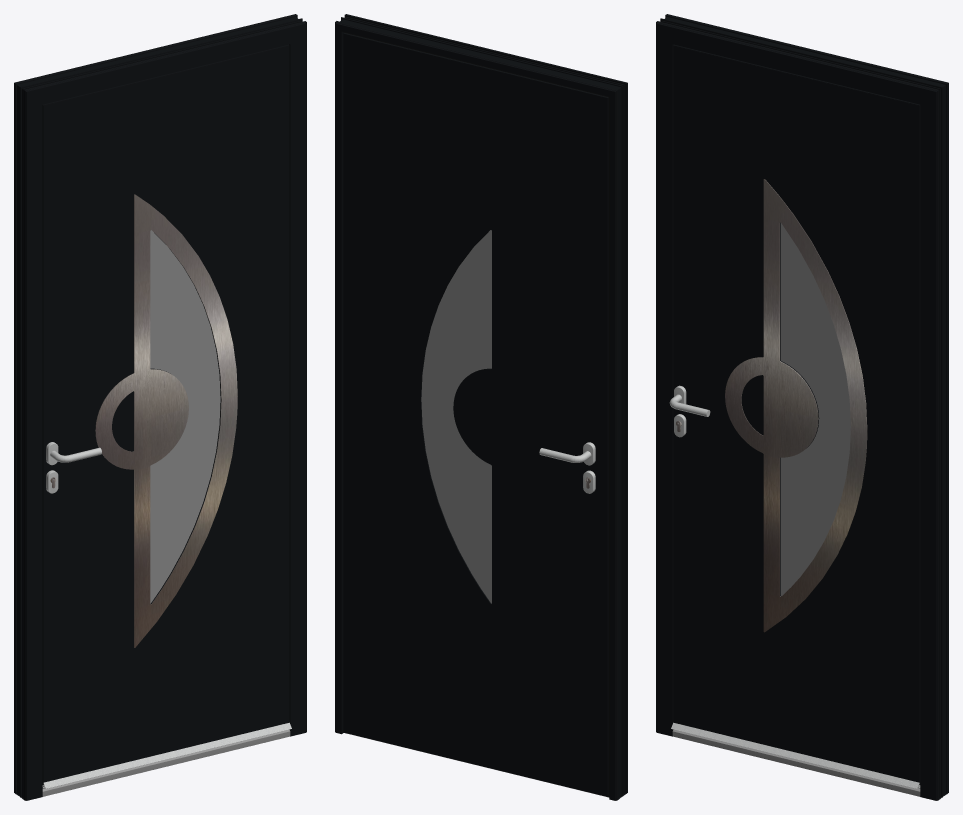
The picture shows the model from 3 angles, left to right: view 1: azimuth 30°, elevation 25°; view 2: azimuth 150°, elevation 25°; view 3: azimuth 330°, elevation 25°; orthographic projection.
Visible parts, largest first — view 1: bloco_78, aroFixo, alunox_47, Plane001, rodapé, escovas, aroMovel, puxador001; view 2: bloco_78, aroFixo, Plane002, aroMovel, puxador; view 3: bloco_78, aroFixo, alunox_47, Plane001, rodapé, escovas, aroMovel, puxador001.
Boxes of the visible parts, <box> form: bloco_78: <box>42,46,289,784</box>; aroFixo: <box>14,14,306,800</box>; alunox_47: <box>95,194,237,647</box>; Plane001: <box>150,230,220,603</box>; rodapé: <box>42,729,290,796</box>; escovas: <box>42,722,291,788</box>; aroMovel: <box>42,44,289,784</box>; puxador001: <box>46,442,101,493</box>; bloco_78: <box>343,34,607,796</box>; aroFixo: <box>335,14,627,800</box>; Plane002: <box>421,230,491,603</box>; aroMovel: <box>343,32,609,796</box>; puxador: <box>539,442,595,493</box>; bloco_78: <box>673,46,918,782</box>; aroFixo: <box>656,14,948,800</box>; alunox_47: <box>725,179,867,632</box>; Plane001: <box>780,223,850,595</box>; rodapé: <box>672,729,920,796</box>; escovas: <box>671,722,920,788</box>; aroMovel: <box>673,44,920,784</box>; puxador001: <box>669,385,710,437</box>.
Size of the model in its own units: 900 by 2165 by 209.
Materials: 7 (2 with a texture image).
